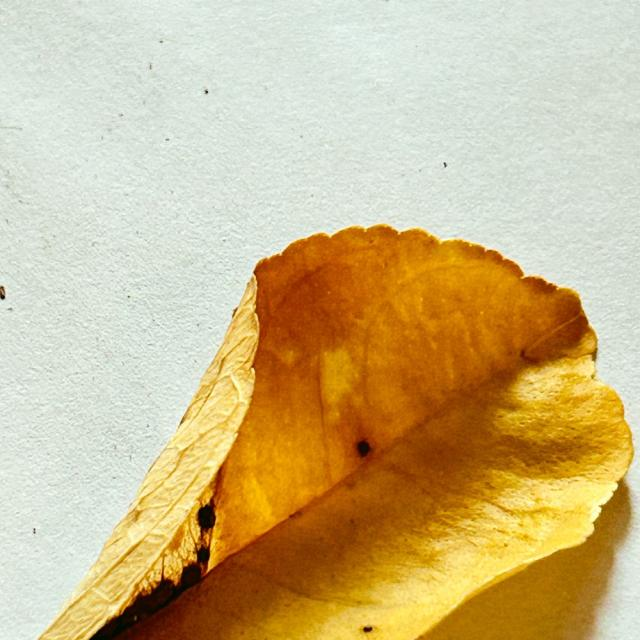DryLeaf_Lemon: (39, 226, 632, 639)
